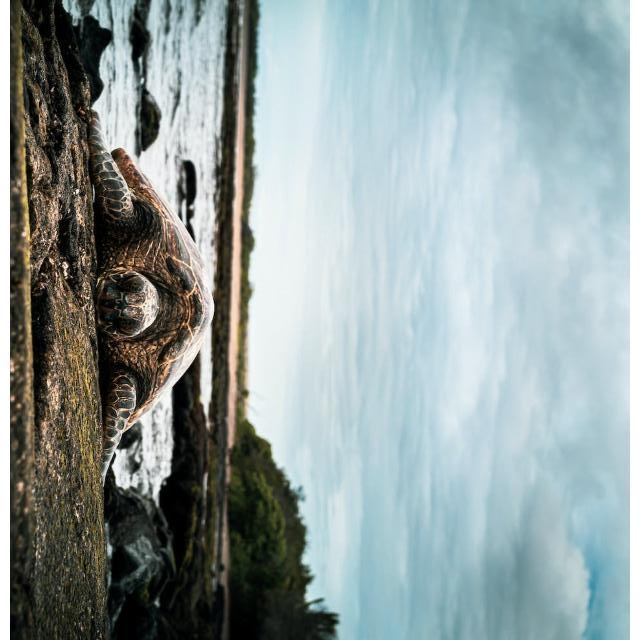turtle: (86, 109, 214, 488)
